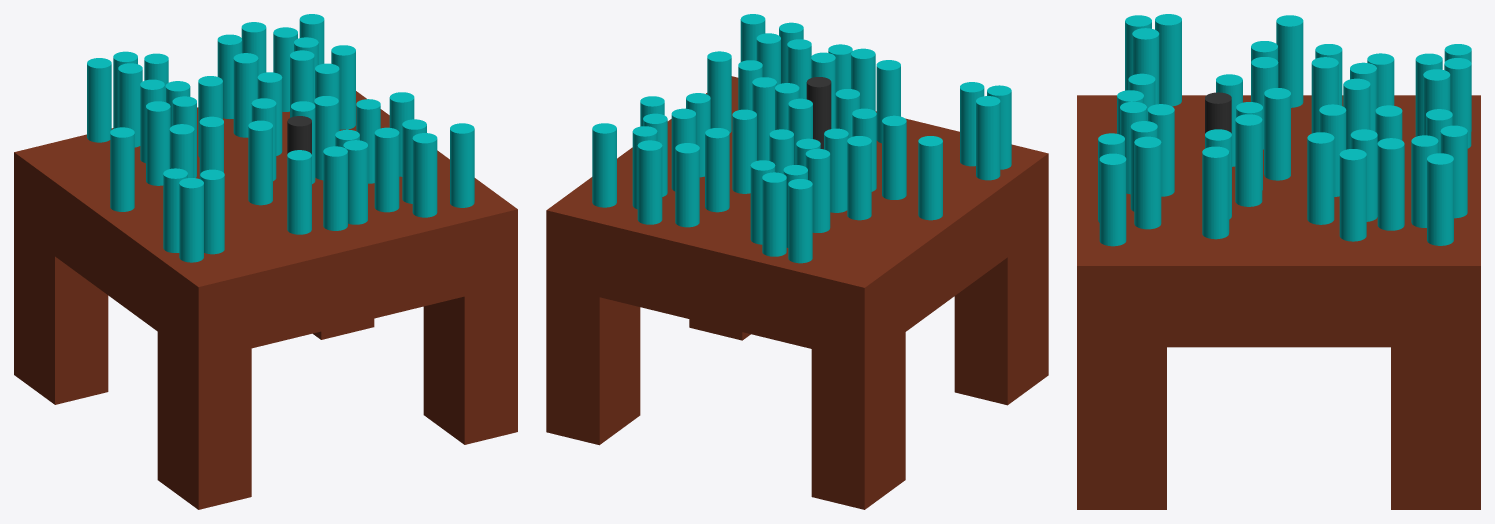
The model's file is can_world_40_cans.dae.
3 views of the same model, side by side, from view 1: azimuth 30°, elevation 25°; view 2: azimuth 150°, elevation 25°; view 3: azimuth 270°, elevation 25° (orthographic). The views are drawn at different scales.
Parts seen in each view (by area): view 1: base (×41); view 2: base (×41); view 3: base (×41).
Part boxes in pixels (x1,y1,x2,y2): base (×41): [14, 14, 517, 509]; base (×41): [546, 14, 1048, 509]; base (×41): [1077, 14, 1480, 509].
Bounding box in the file's own units: 0.9 × 0.9 × 0.811.
